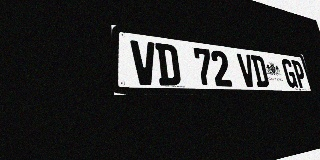2: (210, 50, 232, 87)
7: (192, 47, 216, 86)
D: (155, 43, 181, 86), (250, 55, 270, 87)
G: (281, 59, 298, 88)
P: (291, 60, 308, 88)
V: (130, 40, 158, 85), (236, 53, 257, 87)
